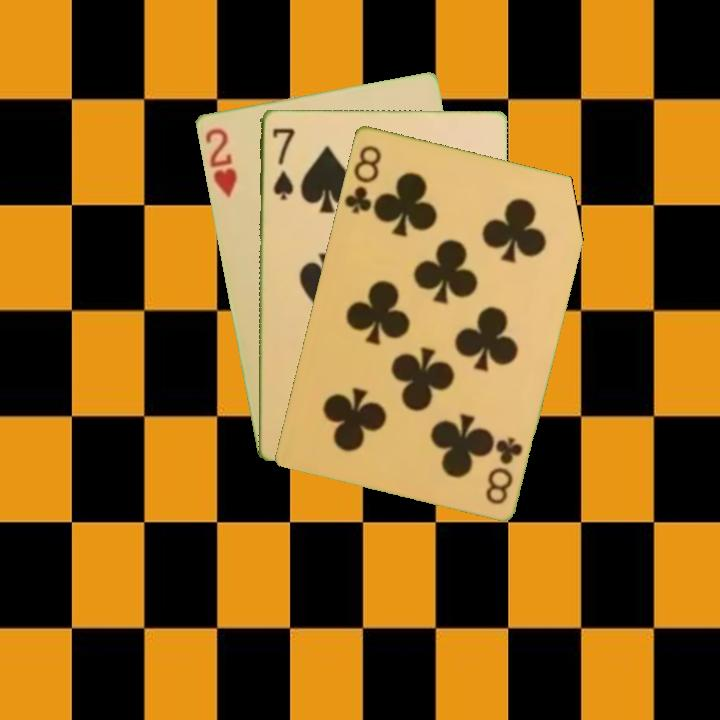2h: (201, 124, 240, 200)
7s: (268, 124, 297, 202)
8c: (340, 141, 384, 216), (481, 433, 525, 507)
